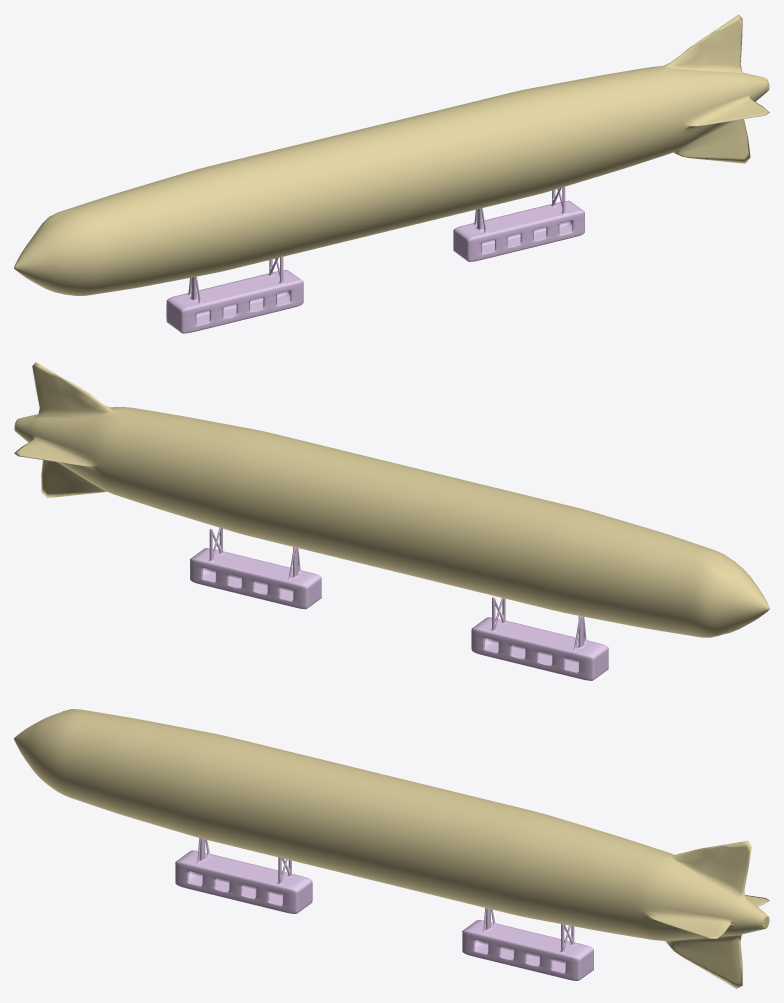
Rendered from airship_3.glb.
The picture shows the model from 3 angles, top to bottom: view 1: azimuth 30°, elevation 25°; view 2: azimuth 150°, elevation 25°; view 3: azimuth 330°, elevation 25°; orthographic projection.
Visible parts, largest first — view 1: zeplline; view 2: zeplline; view 3: zeplline.
Part boxes in pixels (x1,y1,x2,y2): zeplline: (14,14,769,333); zeplline: (14,362,769,680); zeplline: (14,709,769,988).
Size of the model in its own units: 513 by 118 by 66.36.
